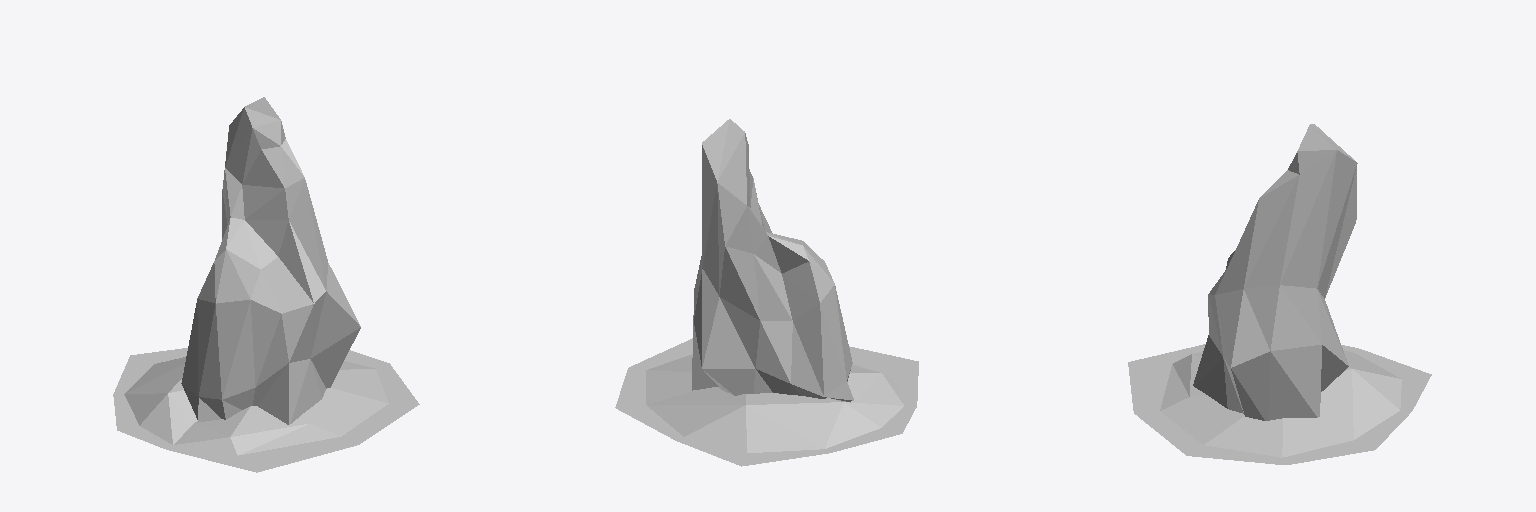
The model's file is Stone_O.obj.
The picture shows the model from 3 angles: view 1: azimuth 30°, elevation 25°; view 2: azimuth 150°, elevation 25°; view 3: azimuth 270°, elevation 25°; orthographic projection.
Visible parts, largest first — view 1: Stein_Stele, Grass; view 2: Stein_Stele, Grass; view 3: Stein_Stele, Grass.
Part boxes in pixels (left/top/right/bottom): Stein_Stele: left=181, top=97, right=360, bottom=424; Grass: left=113, top=348, right=419, bottom=472; Stein_Stele: left=692, top=119, right=853, bottom=401; Grass: left=615, top=338, right=918, bottom=466; Stein_Stele: left=1193, top=124, right=1357, bottom=420; Grass: left=1128, top=344, right=1431, bottom=464.
Bounding box in the file's own units: 350 × 350 × 337.